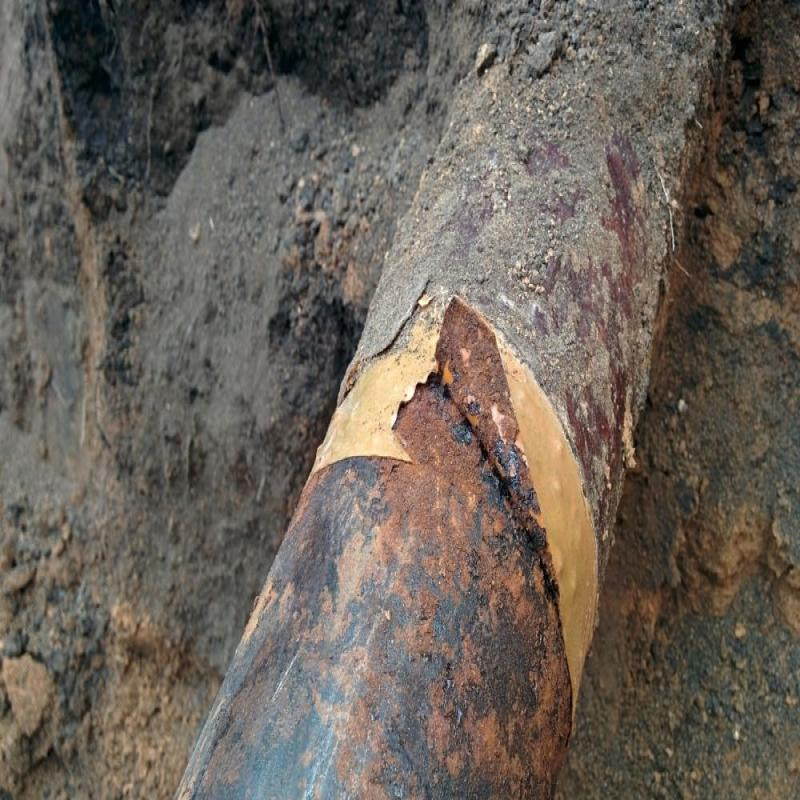Fracture: (426, 347, 577, 625)
